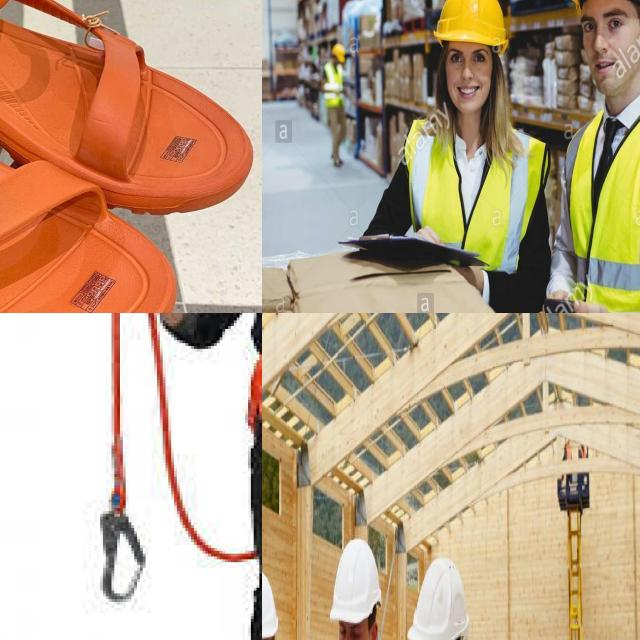No_Glasses: (578, 7, 632, 42), (446, 42, 492, 70)
Sandals: (0, 0, 259, 313)
face_nomask: (578, 0, 640, 95), (444, 41, 496, 118), (338, 614, 375, 640)
hand_noglove: (536, 297, 632, 313)
head_helmet: (405, 555, 471, 640), (329, 535, 383, 627), (420, 0, 520, 49), (262, 567, 278, 640), (332, 42, 348, 60)
person: (394, 0, 552, 313), (539, 0, 640, 313), (317, 534, 405, 640), (413, 558, 507, 640), (321, 40, 352, 165)
vest: (408, 111, 553, 313), (546, 98, 640, 313), (321, 64, 354, 112)
